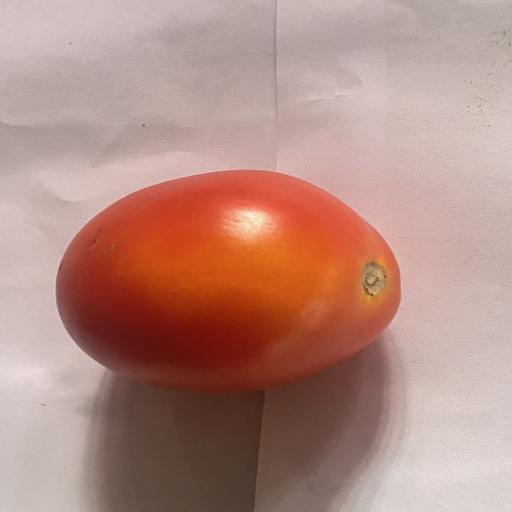ripe: (56, 170, 401, 392)
